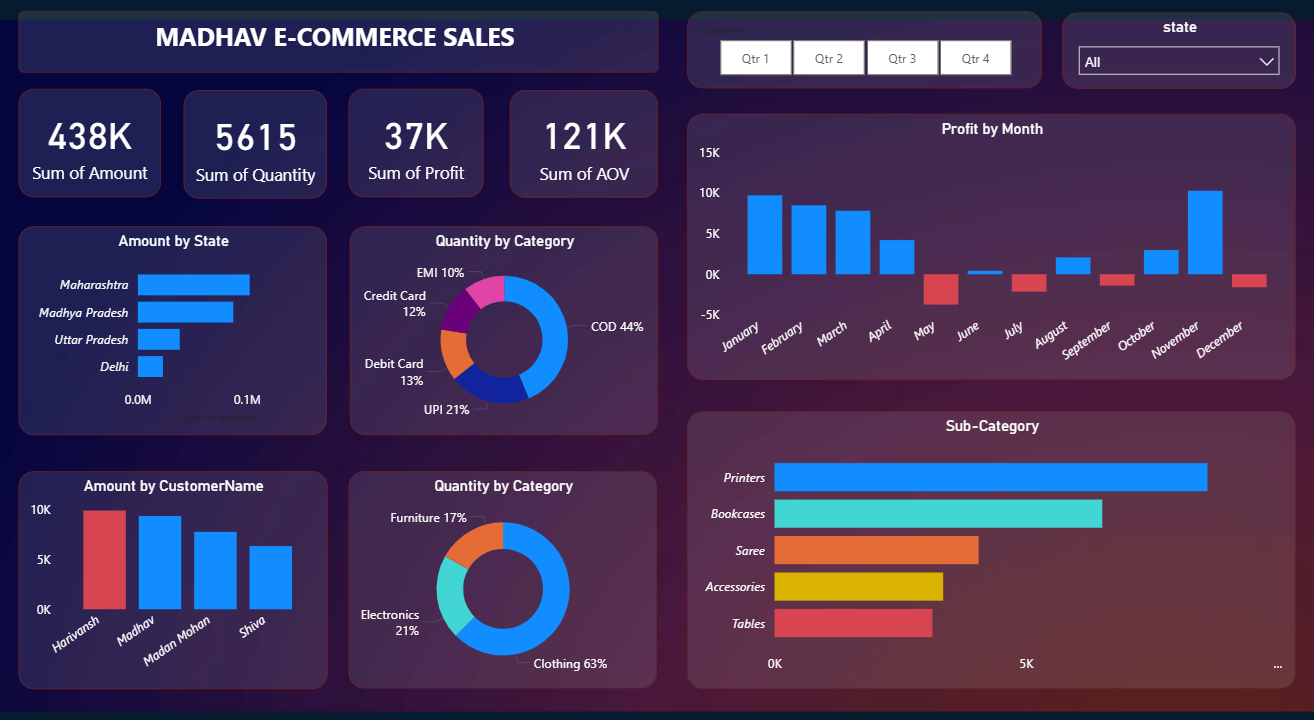

The page's visual inventory and layout, read from the dashboard file:
{"tool":"powerbi","page":{"name":"Page 1","canvas":[1280,720],"ordinal":0},"visuals":[{"type":"textbox","box":[21.7,15.7,617.7,59.1],"z":0},{"type":"columnChart","title":"Profit by Month","fields":{"Category":["Orders.Order Date.Variation.Date Hierarchy.Month"],"Y":["Details.Profit"]},"box":[667.2,114.6,587.5,257],"z":1000},{"type":"barChart","title":" Sub-Category","fields":{"Category":["Details.Sub-Category"],"Y":["Details.Profit"]},"box":[667.2,401.7,587.5,267.8],"z":2000},{"type":"donutChart","title":"Quantity by Category","fields":{"Category":["Details.Category"],"Y":["Details.Quantity"]},"box":[340.2,459.7,298,209.9],"z":3000},{"type":"donutChart","title":"Quantity by Category","fields":{"Category":["Details.PaymentMode"],"Y":["Details.Quantity"]},"box":[341.4,223.2,298,201.5],"z":4000},{"type":"card","fields":{"Values":["Details.Amount"]},"box":[21.7,90.5,137.5,105],"z":5000},{"type":"card","fields":{"Values":["Details.Profit"]},"box":[340.2,90.5,130.3,105],"z":6000},{"type":"card","fields":{"Values":["Details.Quantity"]},"box":[181,91.7,138.7,105],"z":7000},{"type":"card","fields":{"Values":["Details.AOV"]},"box":[495.8,91.7,143.6,103.8],"z":8000},{"type":"barChart","title":"Amount by State","fields":{"Category":["Orders.State"],"Y":["Details.Amount"]},"box":[21.7,223.2,298,201.5],"z":9000},{"type":"columnChart","title":"Amount by CustomerName","fields":{"Y":["Details.Amount"],"Category":["Orders.CustomerName"]},"box":[22,460,298,210],"z":10000},{"type":"slicer","fields":{"Values":["Orders.Order Date.Variation.Date Hierarchy.Quarter"]},"box":[667.2,15.7,342.6,74.8],"z":11000},{"type":"slicer","title":"state","fields":{"Values":["Orders.State"]},"box":[1029.1,16.9,225.6,73.6],"z":12000}]}

Visuals, with their boxes in screenshot pixels (x1, y1, x2, y2), scaled from the page's 1280x720 canvas onto the 1314x720 screenshot:
textbox: [22,16,656,75]
"Profit by Month" columnChart: [685,115,1288,372]
" Sub-Category" barChart: [685,402,1288,670]
"Quantity by Category" donutChart: [349,460,655,670]
"Quantity by Category" donutChart: [350,223,656,425]
card - Details.Amount: [22,90,163,196]
card - Details.Profit: [349,90,483,196]
card - Details.Quantity: [186,92,328,197]
card - Details.AOV: [509,92,656,196]
"Amount by State" barChart: [22,223,328,425]
"Amount by CustomerName" columnChart: [23,460,328,670]
slicer - Orders.Order Date.Variation.Date Hierarchy.Quarter: [685,16,1037,90]
"state" slicer: [1056,17,1288,90]
